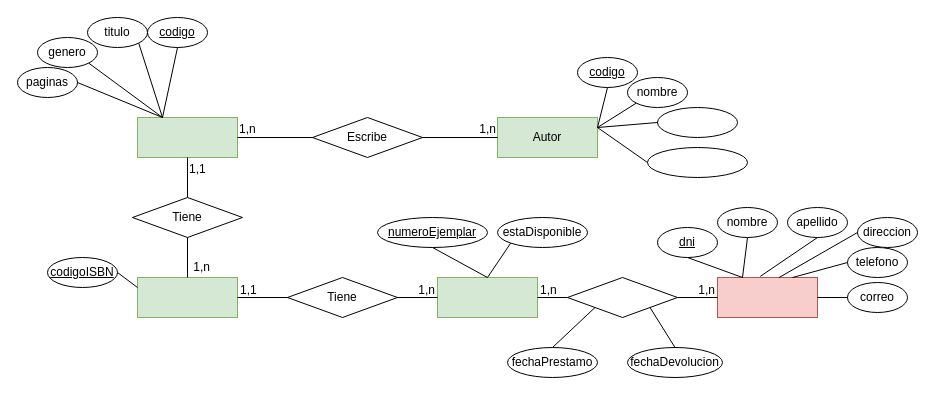
Some shapes in this 935 by 395 pixel diagram are drawn without their labels. Here are the shapes that lost their labels. From the top down, the box of each, then its label:
(136, 116, 238, 158): Libro
(656, 106, 738, 138): nacionalidad
(646, 146, 748, 178): fechaNacimiento
(136, 276, 238, 318): Edicion
(436, 276, 538, 318): Ejemplar
(566, 276, 678, 318): Presta
(716, 276, 818, 318): Socio
